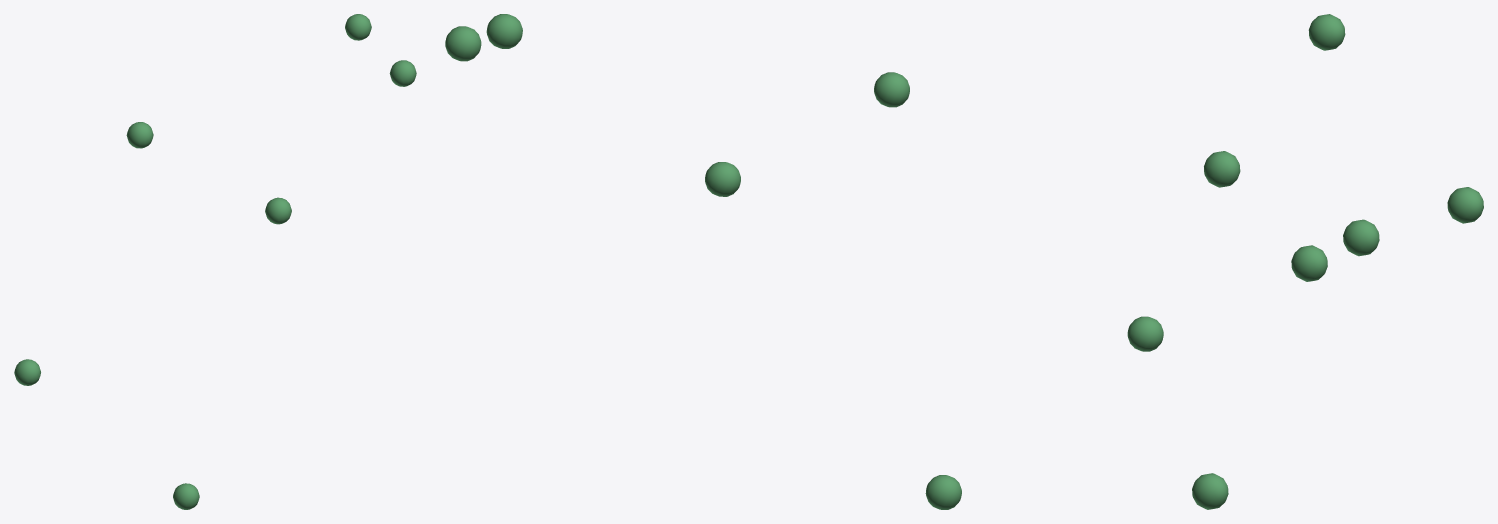
3 views of the same model, side by side, from view 1: azimuth 30°, elevation 25°; view 2: azimuth 150°, elevation 25°; view 3: azimuth 270°, elevation 25° (orthographic). The views are drawn at different scales.
Parts seen in each view (by area): view 1: 膈下淋巴结; view 2: 膈下淋巴结; view 3: 膈下淋巴结.
Boxes of the visible parts, x1,y1,x2,y2 form: 膈下淋巴结: (14,14,416,509); 膈下淋巴结: (445,14,1163,509); 膈下淋巴结: (1192,14,1483,509).
Bounding box in the file's own units: 0.0735 × 0.0565 × 0.03.
